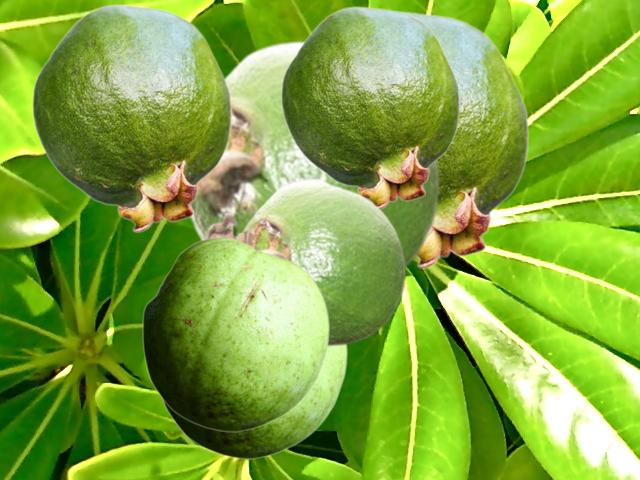guava: (187, 39, 441, 269), (31, 4, 231, 232), (280, 6, 459, 209), (142, 237, 328, 431), (205, 177, 406, 347), (403, 11, 528, 268), (161, 346, 346, 458)
